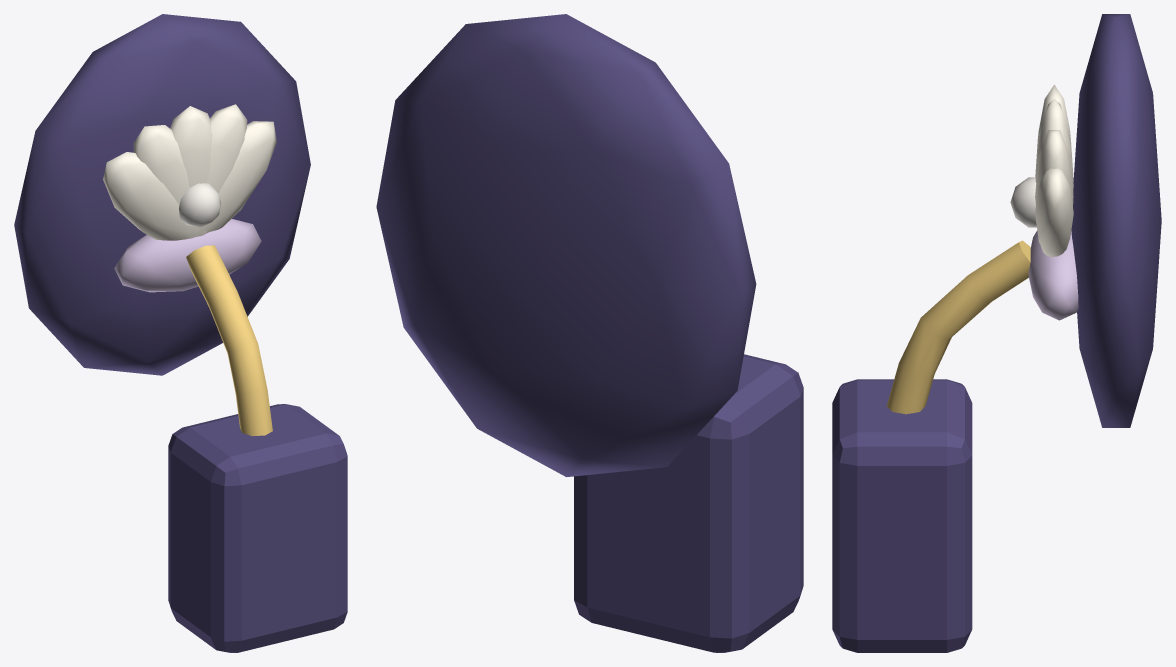
File: pearl_shell_lantern.glb
The picture shows the model from 3 angles, left to right: view 1: azimuth 30°, elevation 25°; view 2: azimuth 150°, elevation 25°; view 3: azimuth 270°, elevation 25°; orthographic projection. The views are drawn at different scales.
Visible parts, largest first — view 1: pearl_shell_lantern.001; view 2: pearl_shell_lantern.001; view 3: pearl_shell_lantern.001.
Boxes of the visible parts, box(x1,y1,x2,y2) form: pearl_shell_lantern.001: box(14, 14, 347, 652); pearl_shell_lantern.001: box(376, 14, 803, 652); pearl_shell_lantern.001: box(832, 14, 1161, 652).
Bounding box in the file's own units: 1.94 × 3.54 × 1.74.
